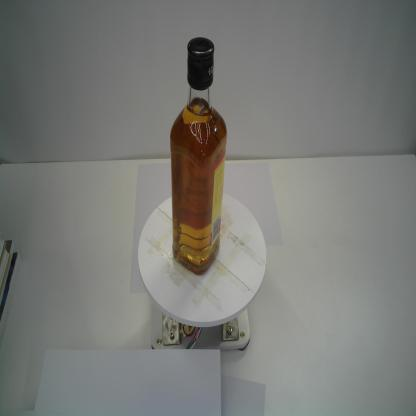Seasoner: (167, 35, 228, 279)
